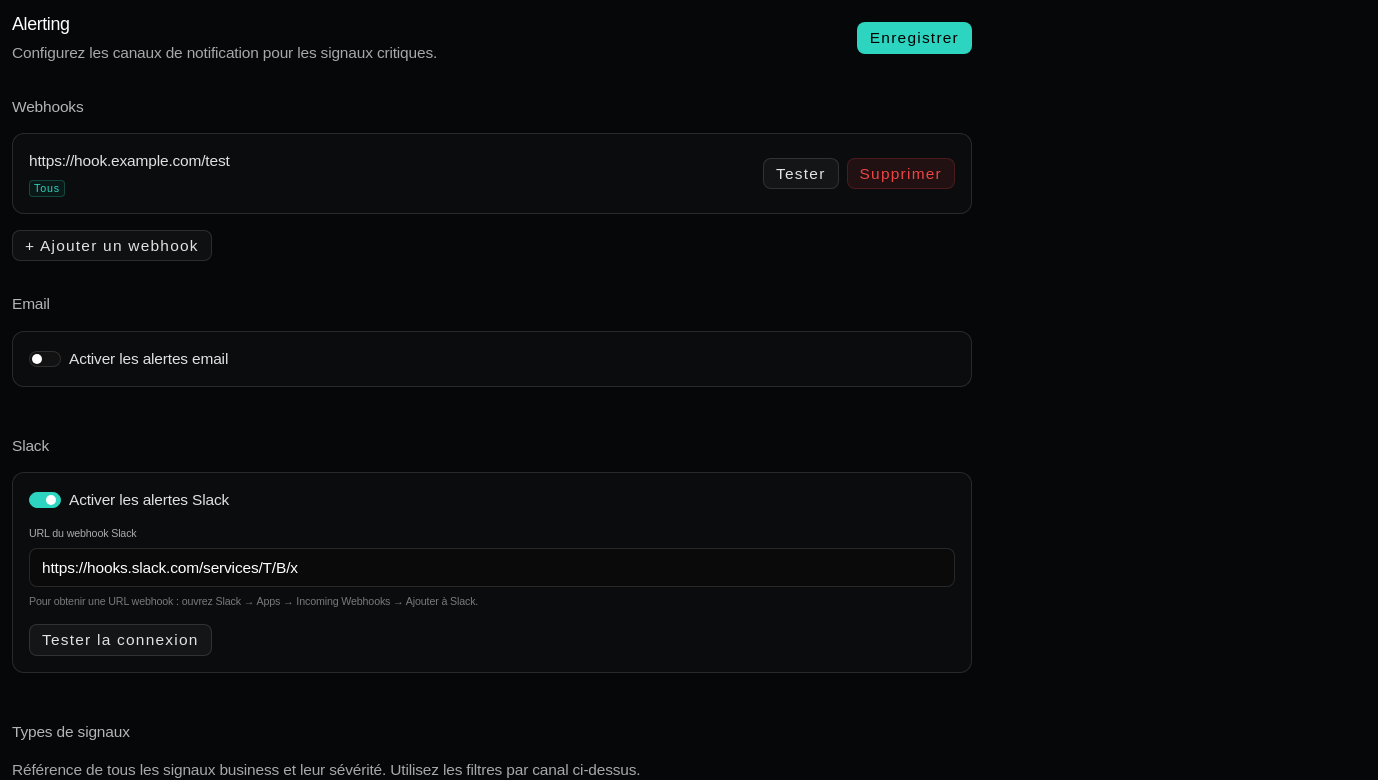
Test: AlertingSettings — suppression webhook › supprime le webhook de la liste
This screenshot has width=1378, height=780.
Expected: the text "https://hook.example.com/test" is shown, [29, 152, 230, 169]
Click the button "Supprimer" at (901, 173), box [847, 158, 955, 189]
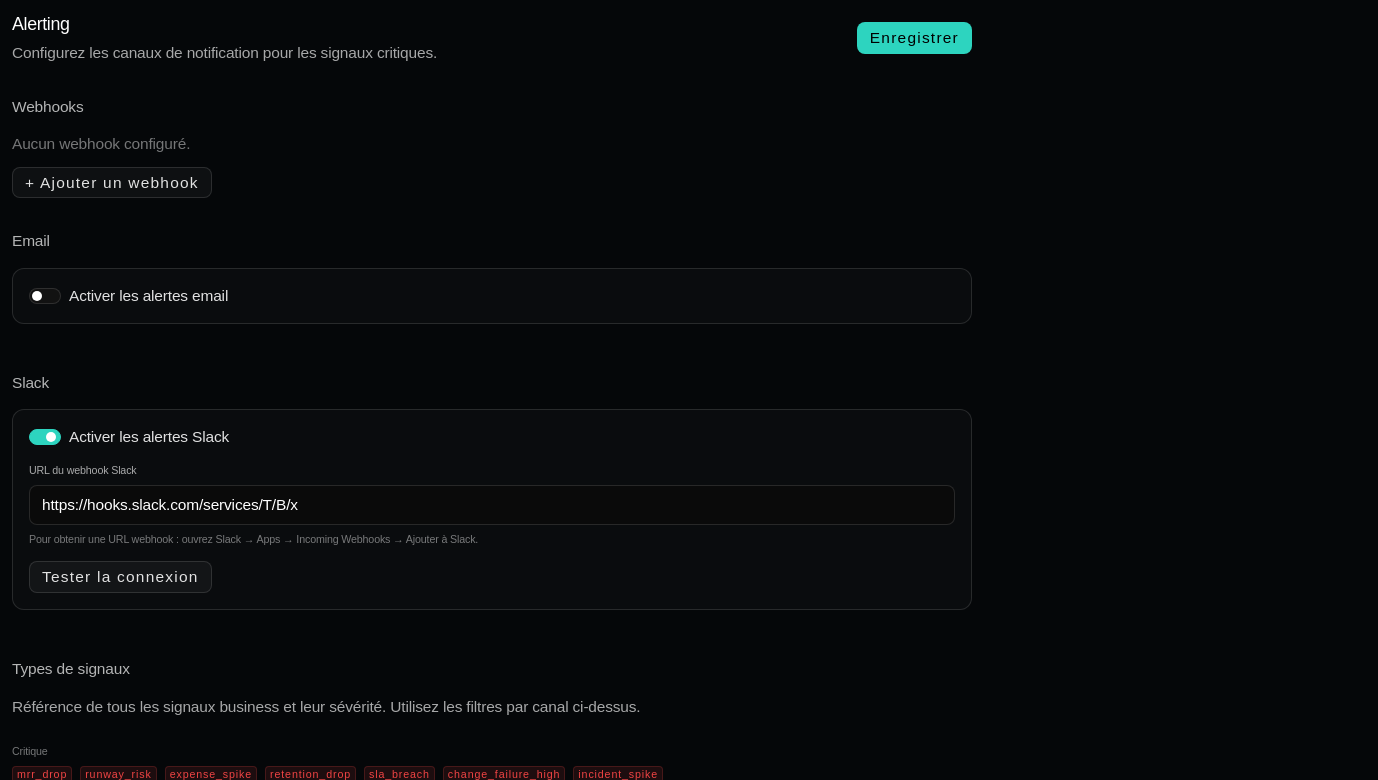
Now the text "https://hook.example.com/test" is gone
